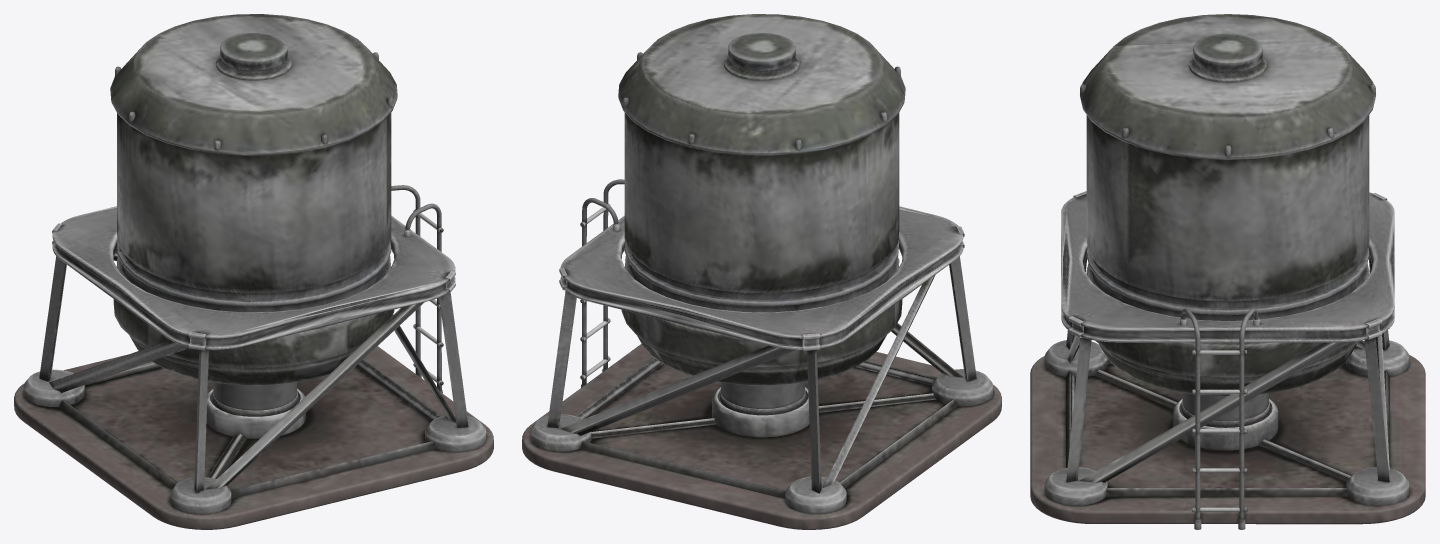
File: water_tank_2.glb
3 views of the same model, side by side, from view 1: azimuth 30°, elevation 25°; view 2: azimuth 150°, elevation 25°; view 3: azimuth 270°, elevation 25° (orthographic). The views are drawn at different scales.
Visible parts, largest first — view 1: Object_3; view 2: Object_3; view 3: Object_3.
Part boxes in pixels (x1,y1,x2,y2): Object_3: (14, 14, 493, 529); Object_3: (522, 14, 1001, 529); Object_3: (1030, 14, 1425, 529).
Bounding box in the file's own units: 0.9258 × 1 × 0.9056.
1 material, 1 textured.
